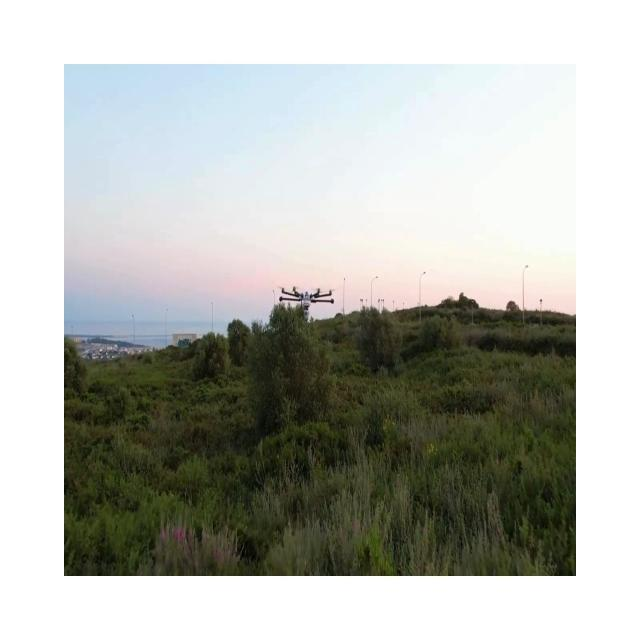drone: (276, 285, 334, 322)
